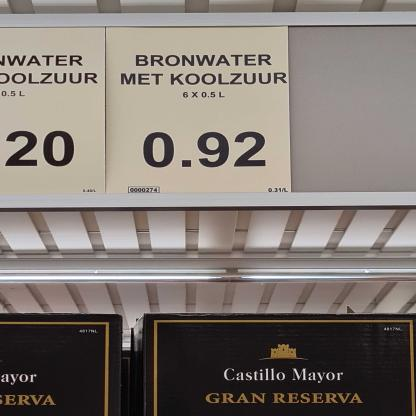prtg: (106, 28, 293, 195), (1, 27, 108, 196)
